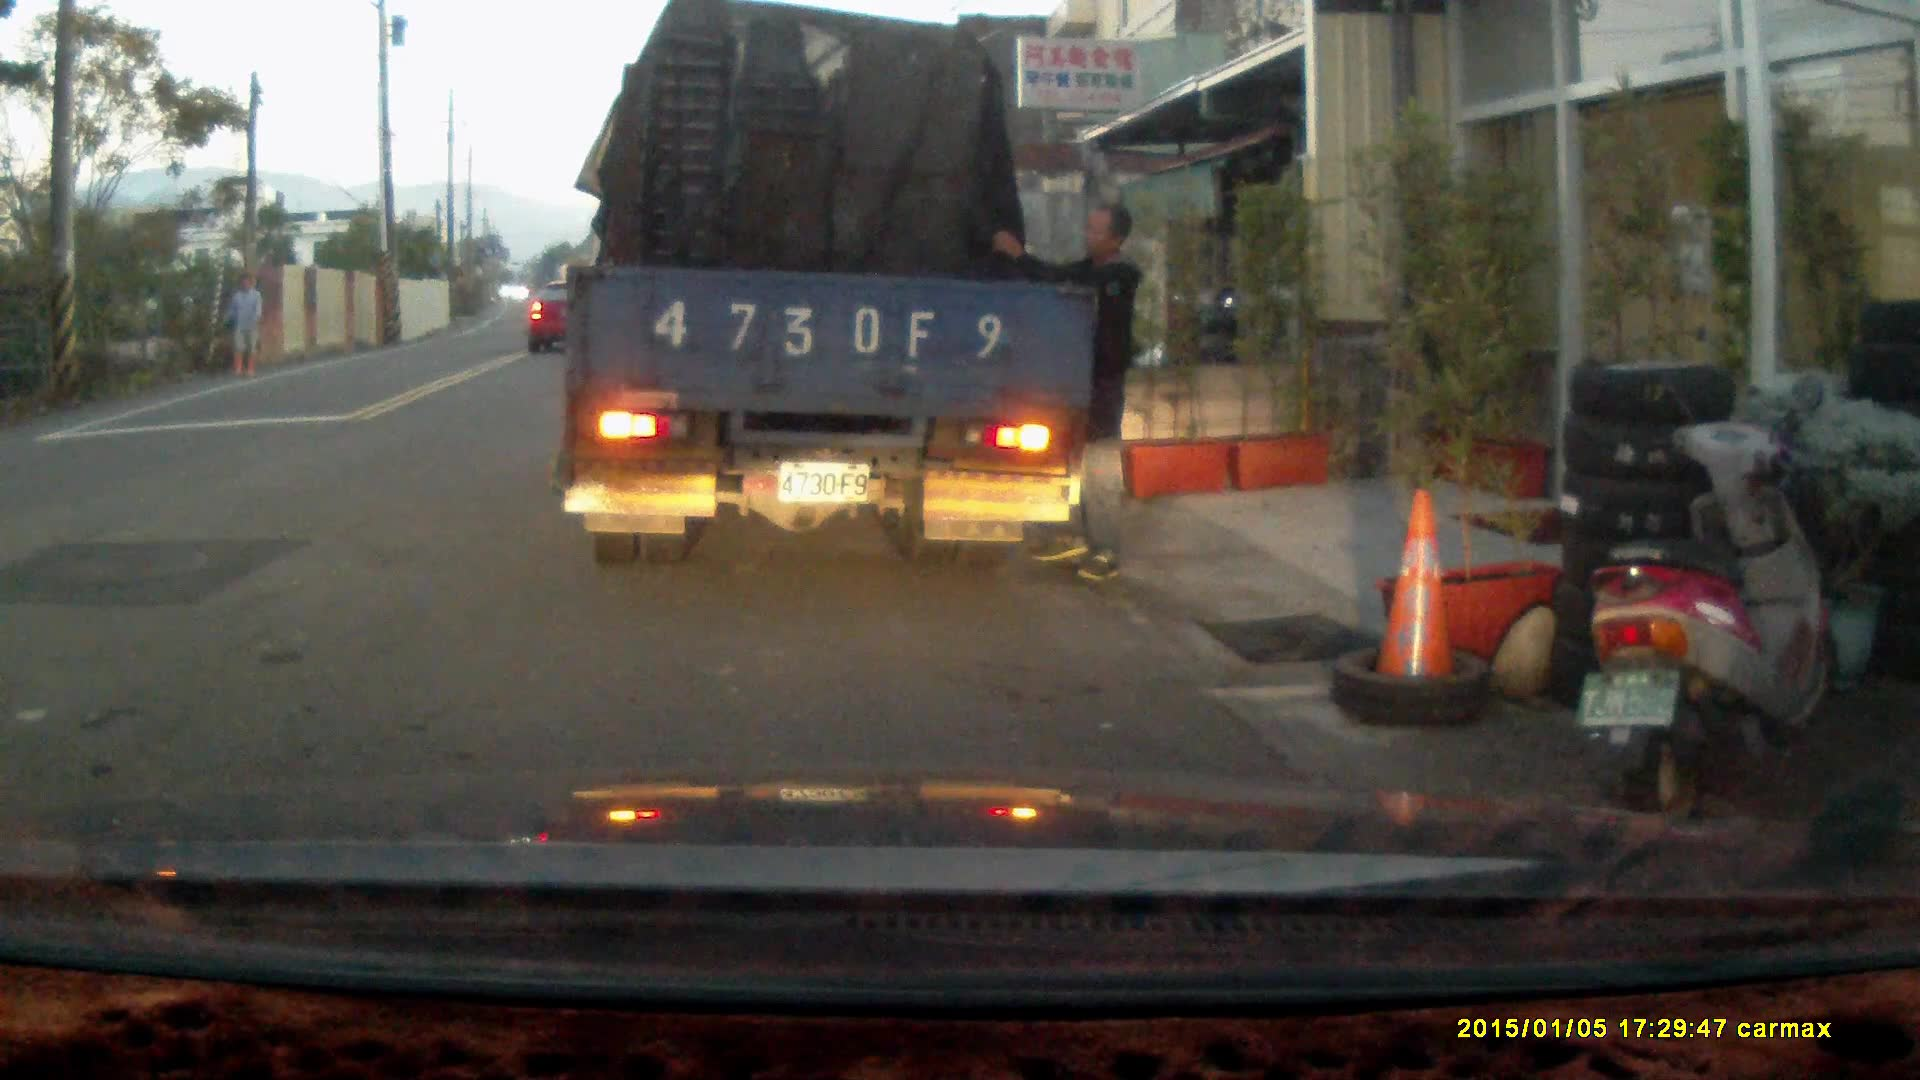pedestrian: (994, 200, 1143, 583), (224, 271, 263, 379)
vehicle: (565, 23, 1097, 572), (530, 281, 601, 356)
